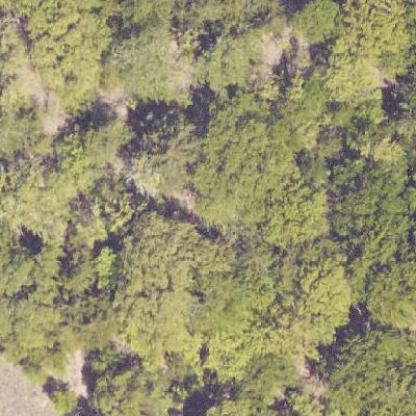tree-top: (106, 254, 203, 355), (23, 4, 111, 104), (321, 328, 415, 415), (122, 119, 202, 202), (85, 351, 172, 415), (351, 244, 415, 331), (106, 25, 182, 98), (56, 176, 133, 248), (260, 176, 335, 248), (189, 25, 257, 91), (282, 4, 340, 43), (51, 377, 82, 413)
